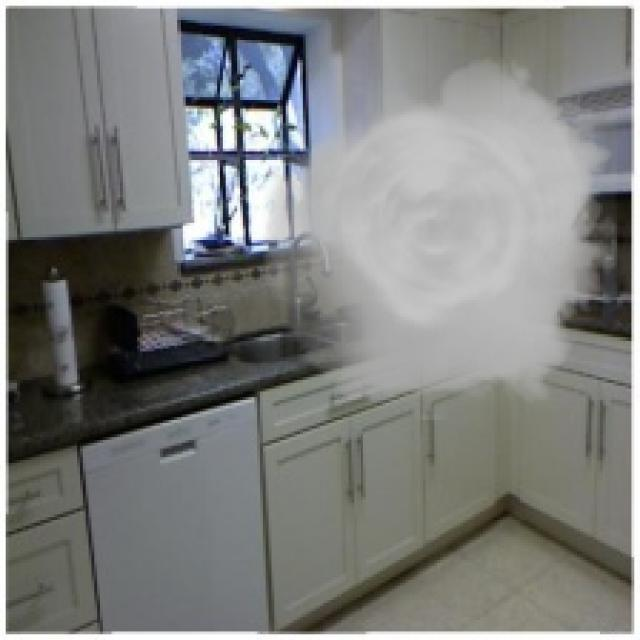Smoke: (262, 46, 618, 420)
